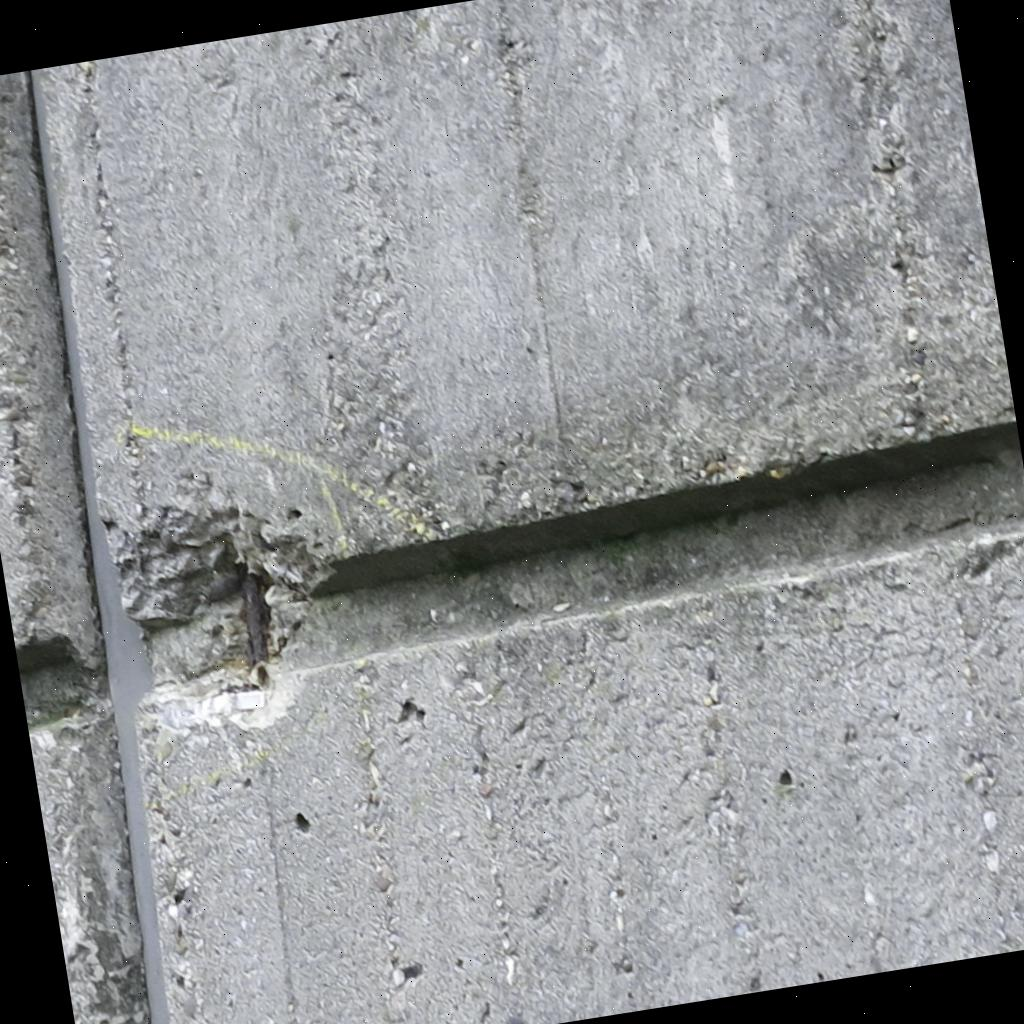exposed_rebar: (236, 563, 271, 666)
spalling: (108, 508, 327, 690)
